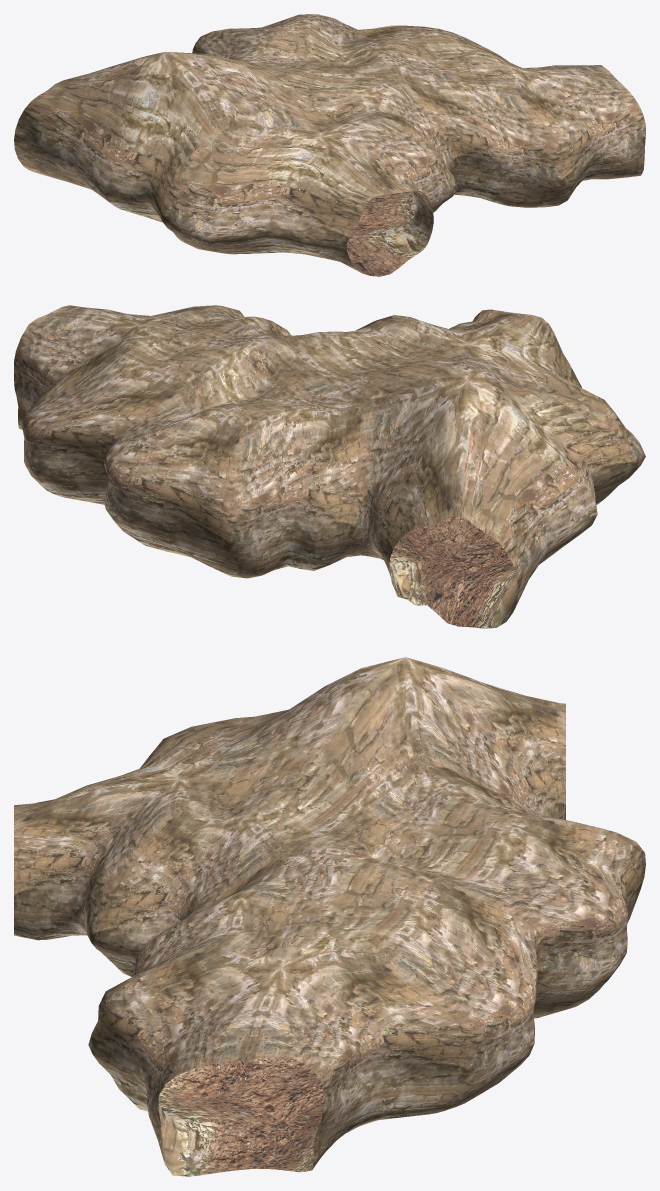
Rendered from thm_tato_cave_s02_r5_rooma_mesh_r5.fbx.
3 renders of one model, top to bottom at view 1: azimuth 30°, elevation 25°; view 2: azimuth 150°, elevation 25°; view 3: azimuth 270°, elevation 25°, orthographic. The views are drawn at different scales.
Visible parts, largest first — view 1: mesh_node; view 2: mesh_node; view 3: mesh_node.
Boxes of the visible parts, box(x1,y1,x2,y2) form: mesh_node: box(14, 14, 645, 276); mesh_node: box(14, 305, 645, 628); mesh_node: box(14, 657, 645, 1176).
Size of the model in its own units: 60.4 by 19.96 by 46.07.
